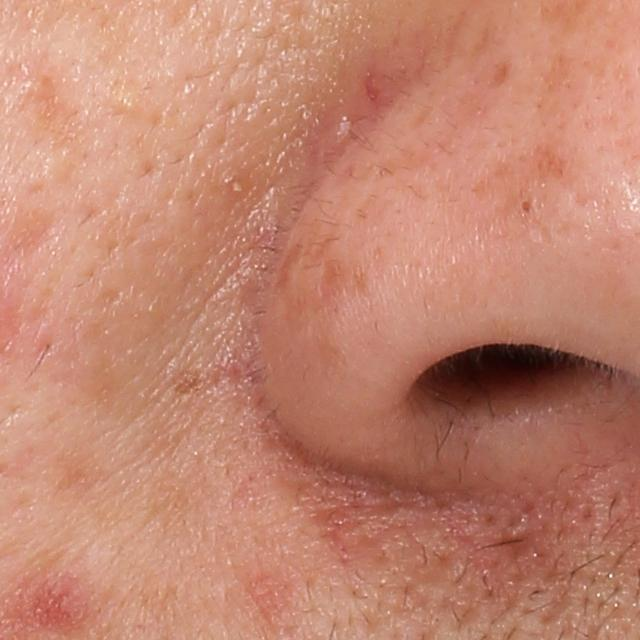comedo: (516, 197, 536, 220)
melasma: (466, 139, 568, 196), (264, 241, 306, 303), (484, 59, 516, 94)
